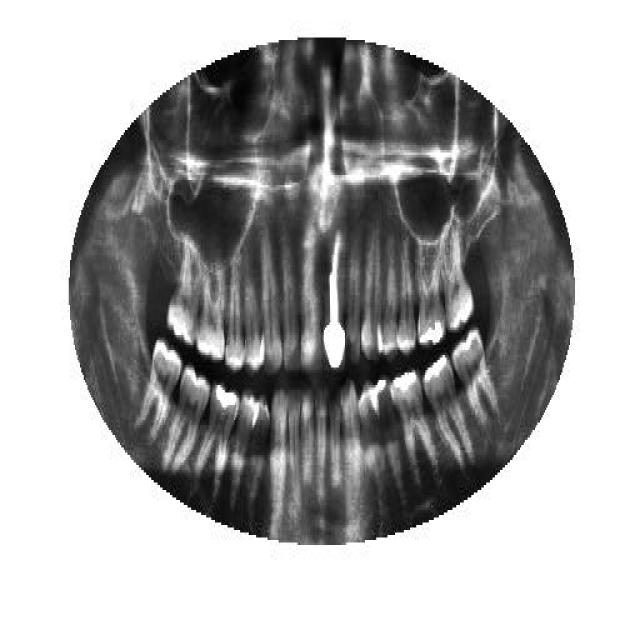Fillings: (391, 365, 439, 487), (422, 358, 472, 460), (196, 380, 240, 490), (415, 242, 446, 348)
Implant: (324, 242, 346, 370)
